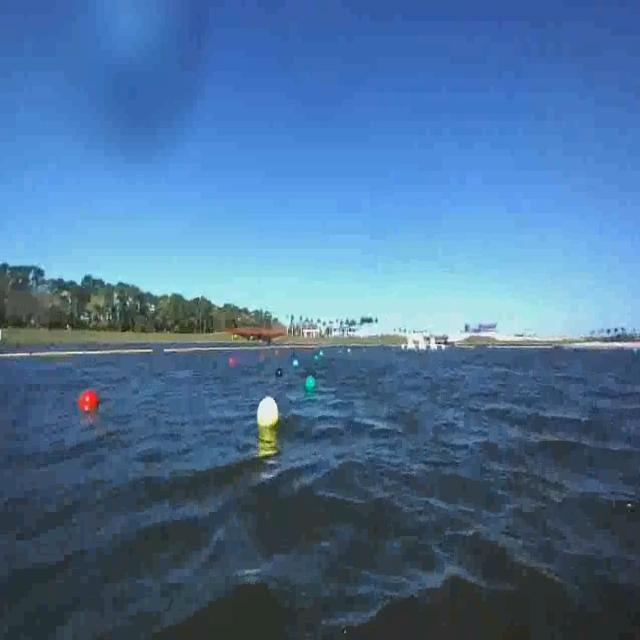black-buoy: (276, 365, 284, 377)
green-buoy: (306, 374, 318, 395)
red-buoy: (78, 392, 98, 414)
yellow-buoy: (258, 398, 280, 432)
